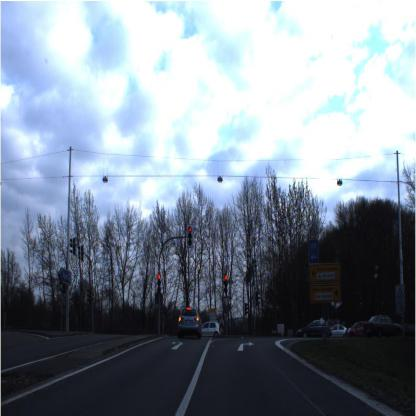other: (219, 293, 232, 311)
